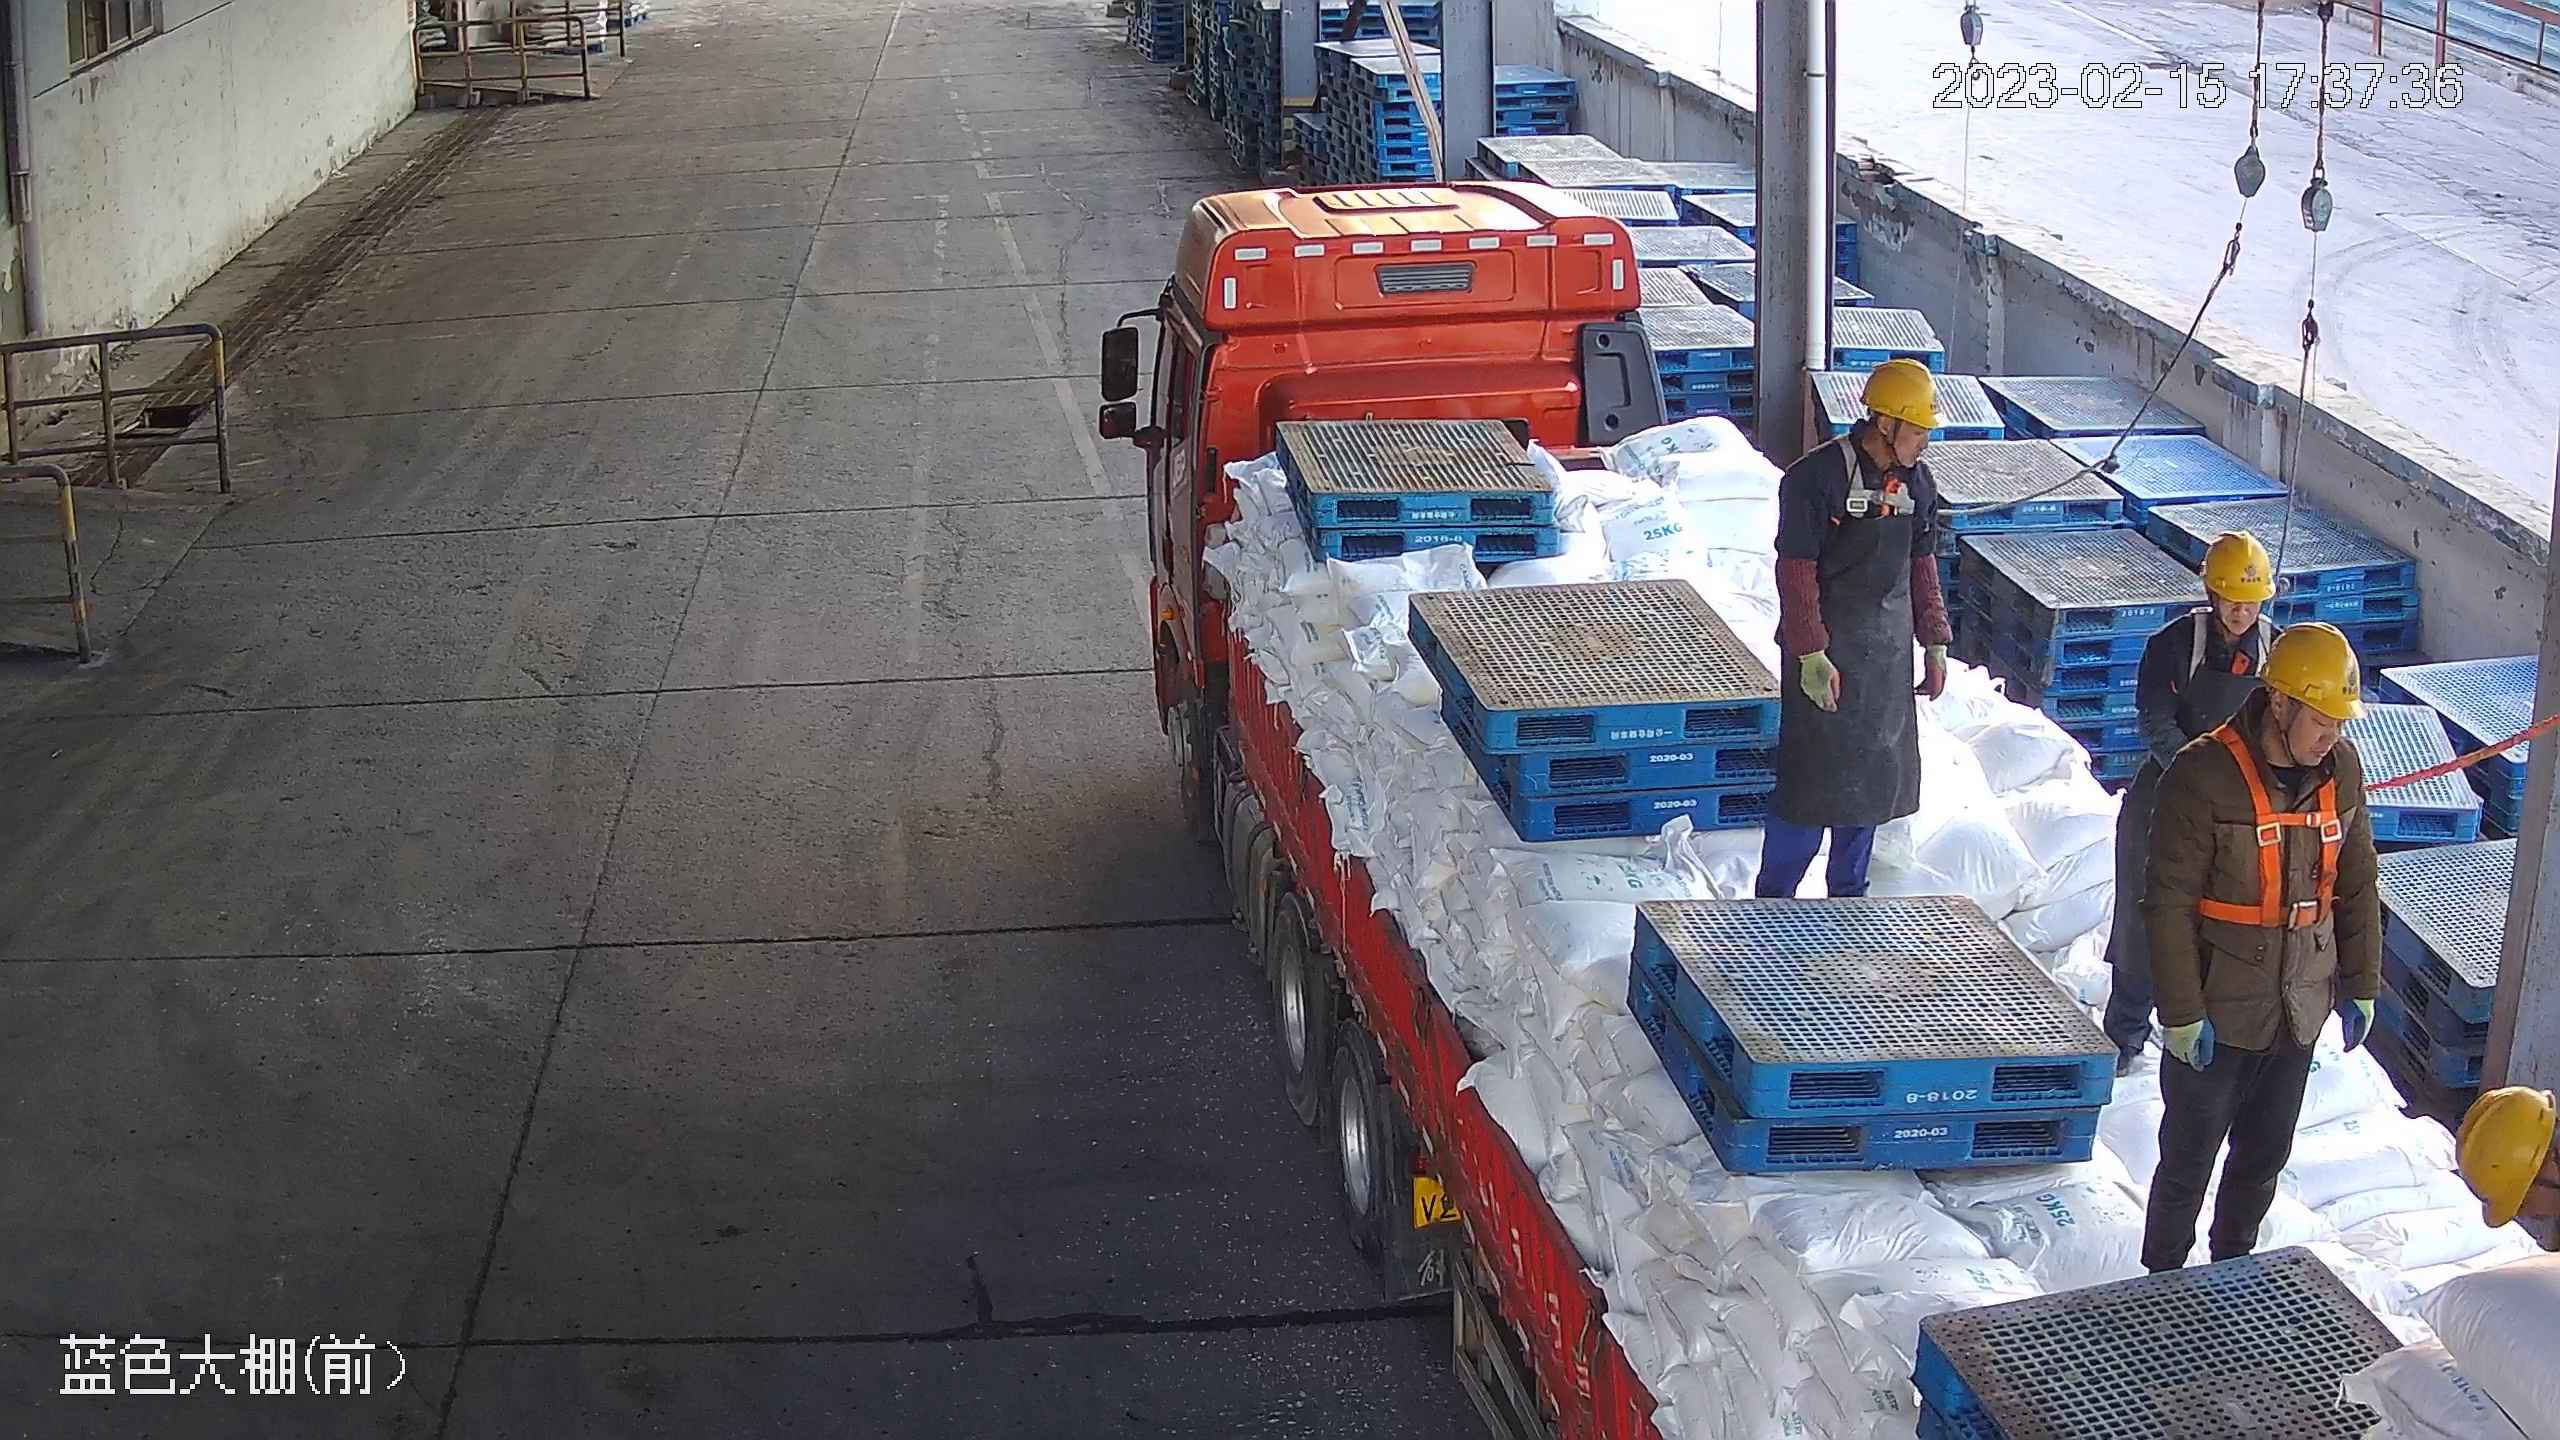belt: (2202, 767, 2362, 923), (1835, 464, 1920, 523), (2186, 632, 2269, 674)
head: (2190, 625, 2362, 792), (1804, 355, 1946, 493), (2158, 530, 2299, 662)
helmet: (2455, 1086, 2560, 1234), (2263, 622, 2363, 722), (1858, 353, 1949, 434), (2195, 529, 2281, 602)
people: (2135, 625, 2383, 1276), (2109, 529, 2309, 1083), (1751, 358, 1949, 902)
truck: (1095, 167, 2560, 1440)
